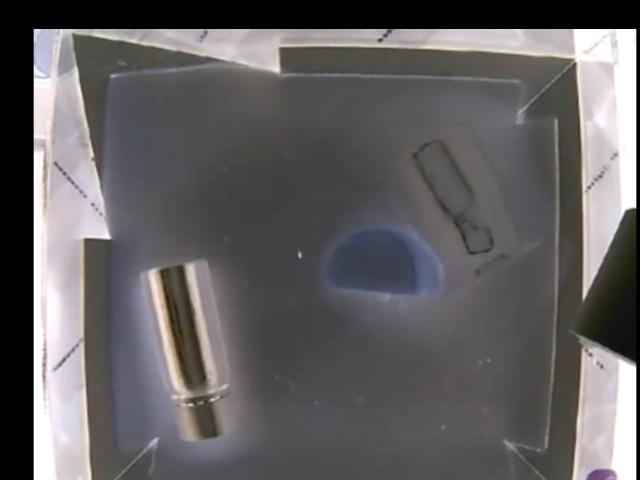Bottle: (399, 126, 536, 286), (140, 260, 231, 449)
Mooli: (322, 224, 445, 293)
